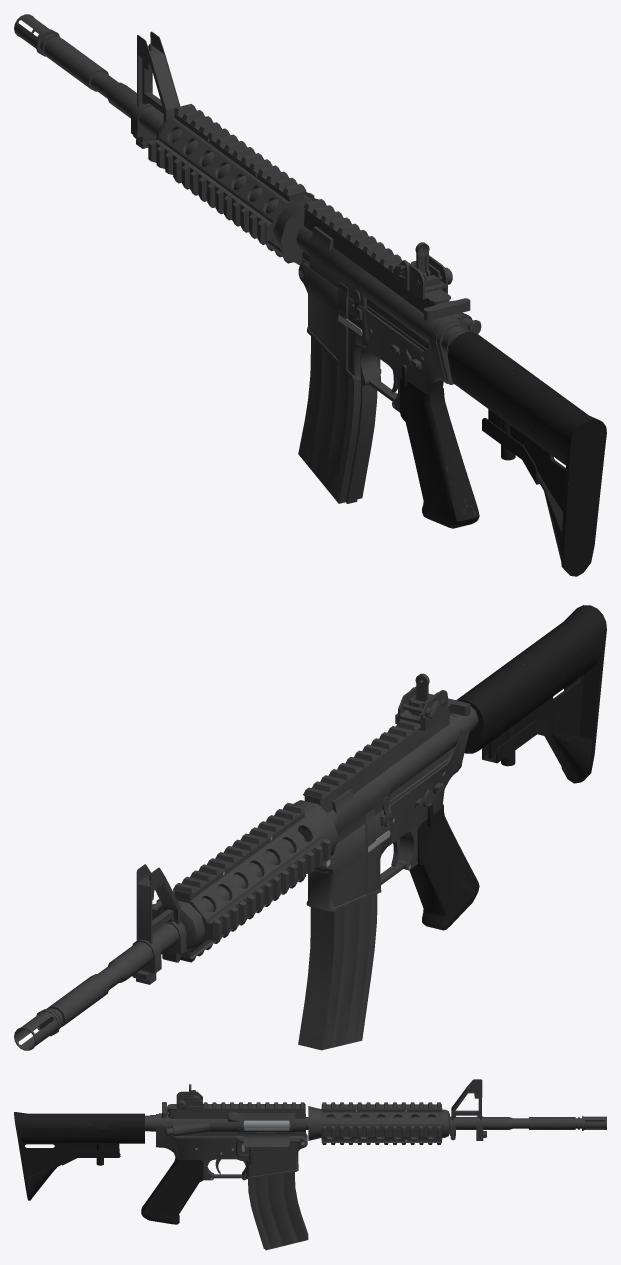
3 renders of one model, top to bottom at view 1: azimuth 30°, elevation 25°; view 2: azimuth 150°, elevation 25°; view 3: azimuth 270°, elevation 25°, orthographic. The views are drawn at different scales.
Parts seen in each view (by area): view 1: Base, Barrel, Stock, Magazine, Sight; view 2: Base, Barrel, Stock, Magazine, Sight; view 3: Base, Barrel, Stock, Magazine, Ejector_Lid, Sight, Ejector.
Boxes of the visible parts, box(x1,y1,x2,y2) form: Base: box(296, 199, 481, 528); Barrel: box(14, 14, 318, 265); Stock: box(441, 326, 606, 576); Magazine: box(298, 336, 377, 503); Sight: box(395, 242, 447, 299); Base: box(303, 702, 479, 930); Barrel: box(14, 800, 338, 1050); Stock: box(456, 605, 606, 783); Magazine: box(298, 894, 377, 1050); Sight: box(395, 673, 447, 730); Base: box(141, 1102, 307, 1224); Barrel: box(306, 1079, 606, 1144); Stock: box(14, 1112, 155, 1200); Magazine: box(248, 1172, 308, 1250); Ejector_Lid: box(237, 1132, 296, 1146); Sight: box(176, 1084, 202, 1111); Ejector: box(243, 1120, 289, 1128).
Size of the model in its own units: 0.0636 by 0.2663 by 0.8588.
Materials: 1 (1 with a texture image).
